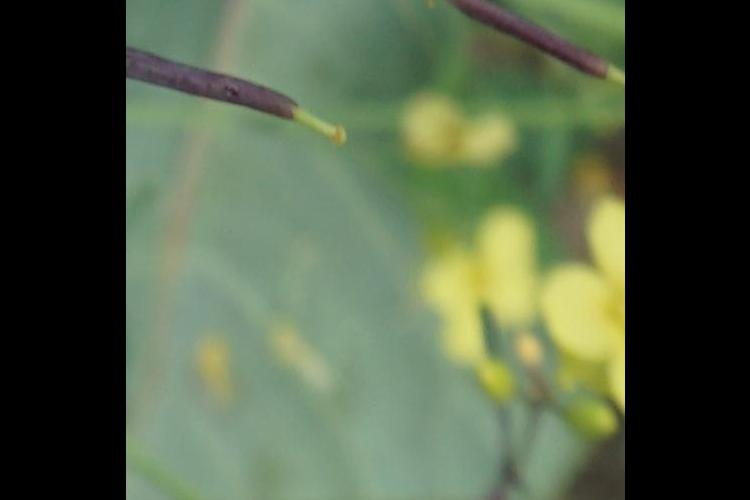bud: (557, 405, 615, 453)
pod: (127, 20, 340, 170), (390, 1, 622, 116)
yellow: (556, 201, 621, 400), (410, 226, 485, 390), (472, 200, 547, 363)
